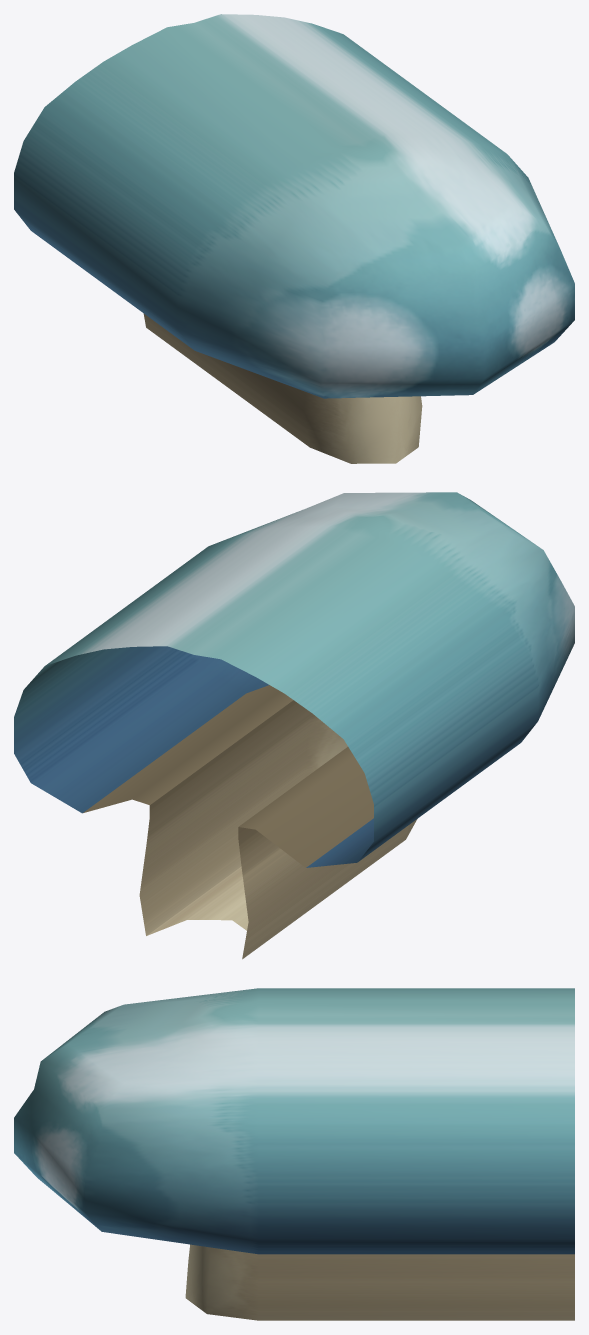
Rendered from 0217_kinoko01.fbx.
3 views of the same model, one above another, from view 1: azimuth 30°, elevation 25°; view 2: azimuth 150°, elevation 25°; view 3: azimuth 270°, elevation 25° (orthographic). The views are drawn at different scales.
Parts seen in each view (by area): view 1: _0216_kinoko01:cylinder4; view 2: _0216_kinoko01:cylinder4; view 3: _0216_kinoko01:cylinder4.
Boxes of the visible parts, x1,y1,x2,y2 form: _0216_kinoko01:cylinder4: (14,14,574,463); _0216_kinoko01:cylinder4: (14,492,574,959); _0216_kinoko01:cylinder4: (14,988,574,1320).
Size of the model in its own units: 16.3 by 12.83 by 22.8.
